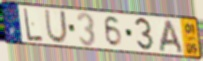3: (76, 11, 98, 50), (134, 16, 156, 52)
6: (103, 15, 124, 48)
A: (158, 19, 186, 55)
L: (22, 7, 44, 43)
U: (43, 9, 69, 45)
